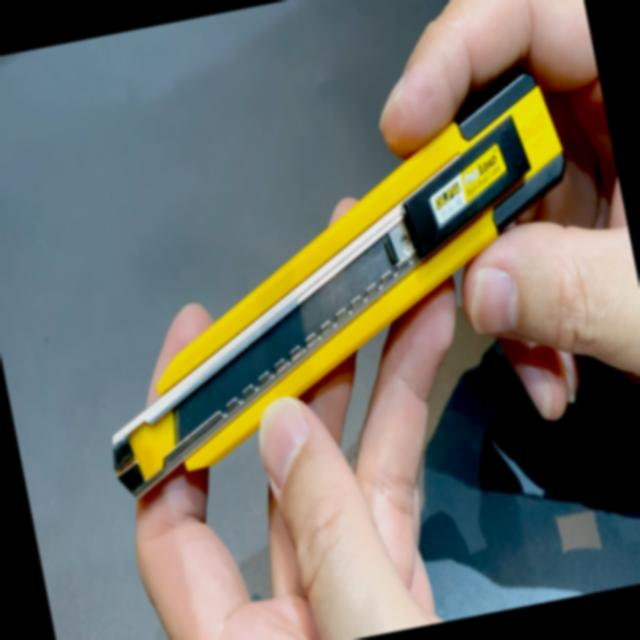cutter: (95, 0, 640, 640)
